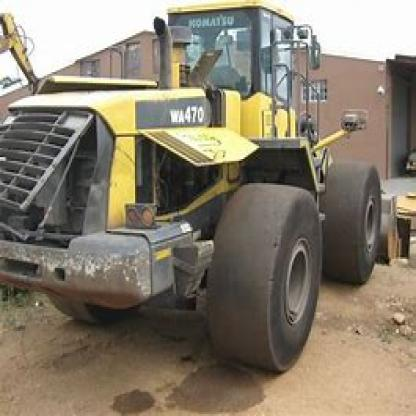bull_dozer/loader/grader: (13, 7, 414, 374)
